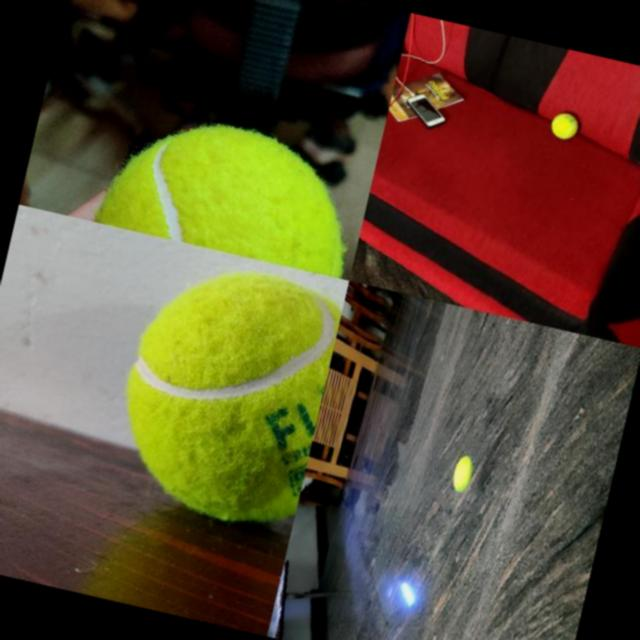tennis-ball: (99, 248, 345, 538), (94, 100, 366, 278), (449, 454, 475, 494), (548, 110, 580, 140)
